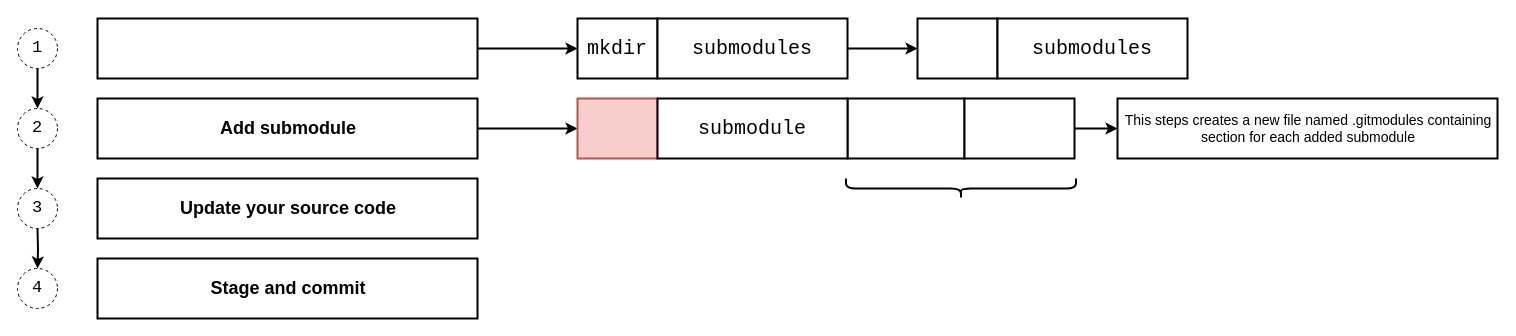
Image size: 1516x336. Some labels were removed from this diagram. Each missing label, with the centre of its shape:
[Optional] create a new directory named submodules: pixel 287 48
add: pixel 905 128
By default it will track the master branch: pixel 960 188
cd: pixel 957 48
git: pixel 617 128
url: pixel 1019 128
